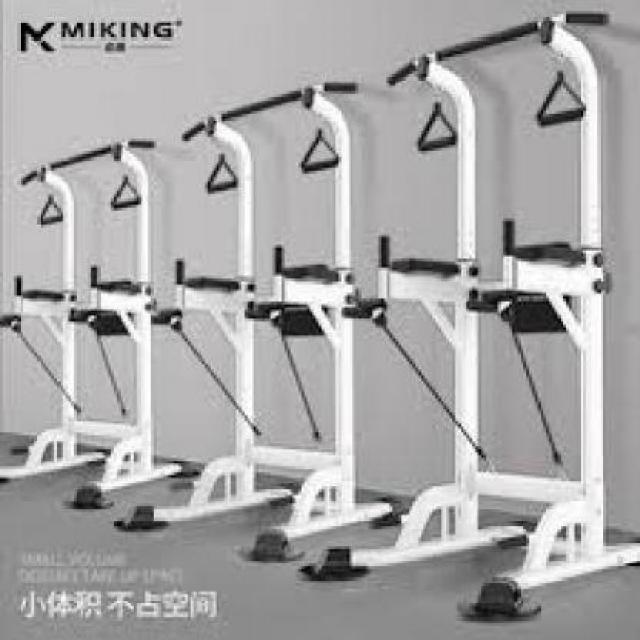chinning dipping: (341, 9, 640, 623), (154, 77, 408, 529), (0, 134, 157, 509)
